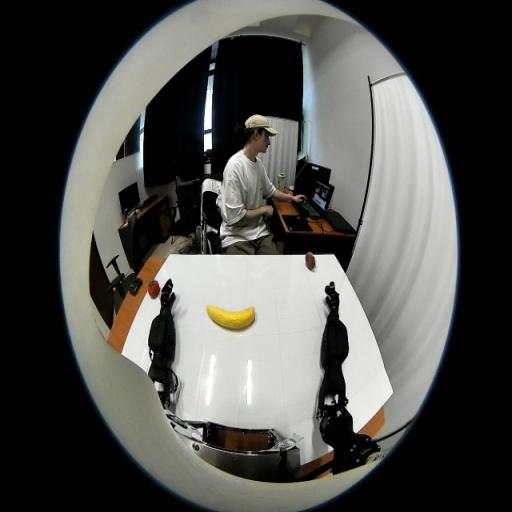Banana: (206, 304, 255, 330)
LeftHand: (160, 296, 170, 308)
Mushroom: (305, 251, 318, 270)
RightHand: (330, 299, 339, 313)
Tomato: (148, 280, 160, 298)
